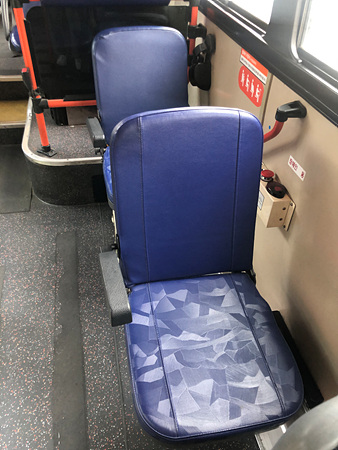seat: (110, 103, 298, 434)
